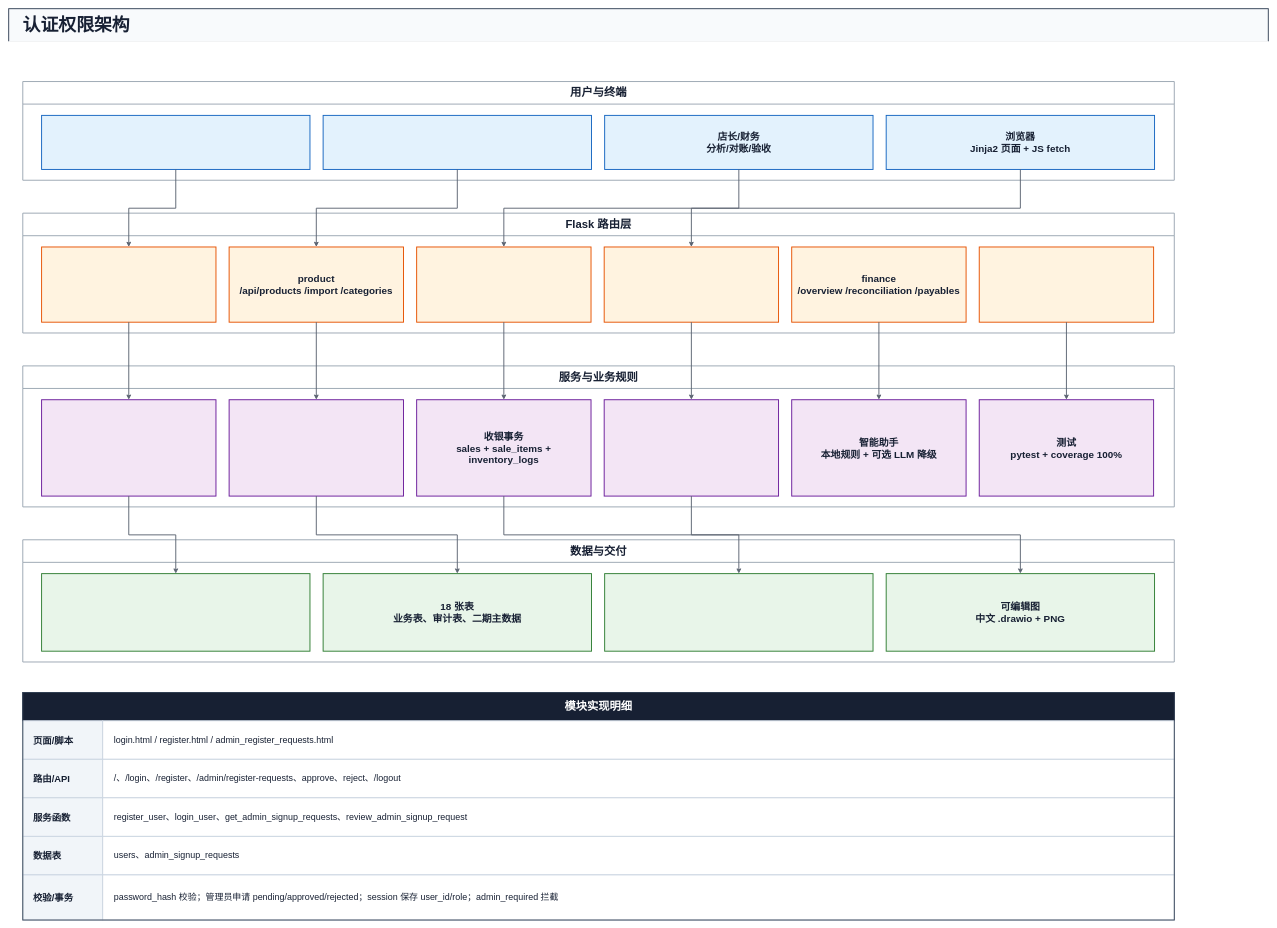
This 1277x928 diagram has some shape labels left out. Here are the shapes that lost their labels. From the top down, the centre of each, then its label:
At point (638, 51): "架构图｜分层、模块、接口、数据表、权限边界".
At point (175, 142): "管理员 商品/库存/财务/公告/二期主数据".
At point (457, 142): "收银员 收银/销售/公告/助手".
At point (128, 284): "auth /login /register /logout".
At point (503, 284): "inventory /summary /list /logs /alerts".
At point (691, 284): "cashier/sales /checkout /orders /detail".
At point (1066, 284): "second_phase /members /employees /suppliers /settings".
At point (128, 447): "权限 login_required/admin_required".
At point (316, 447): "商品库存 create/update/import + set_inventory_quantity".
At point (691, 447): "财务事务 transactions + reconciliation + payables".
At point (175, 612): "SQLite schema.sql + seed_data.sql".
At point (738, 612): "报告 docx + 57 主图 + 12 用例图".
